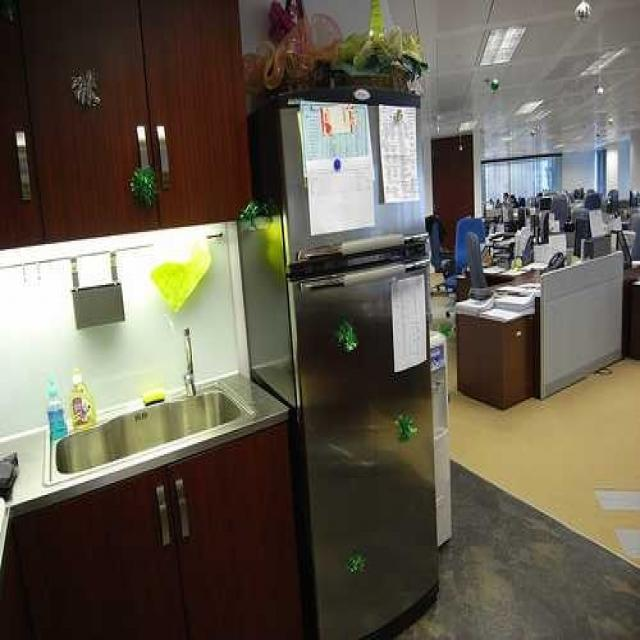refrigerator: (290, 226, 448, 640)
